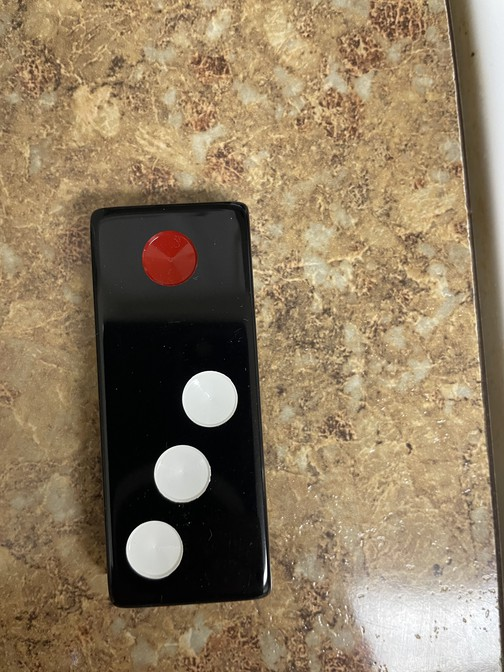goose: (90, 205, 274, 607)
